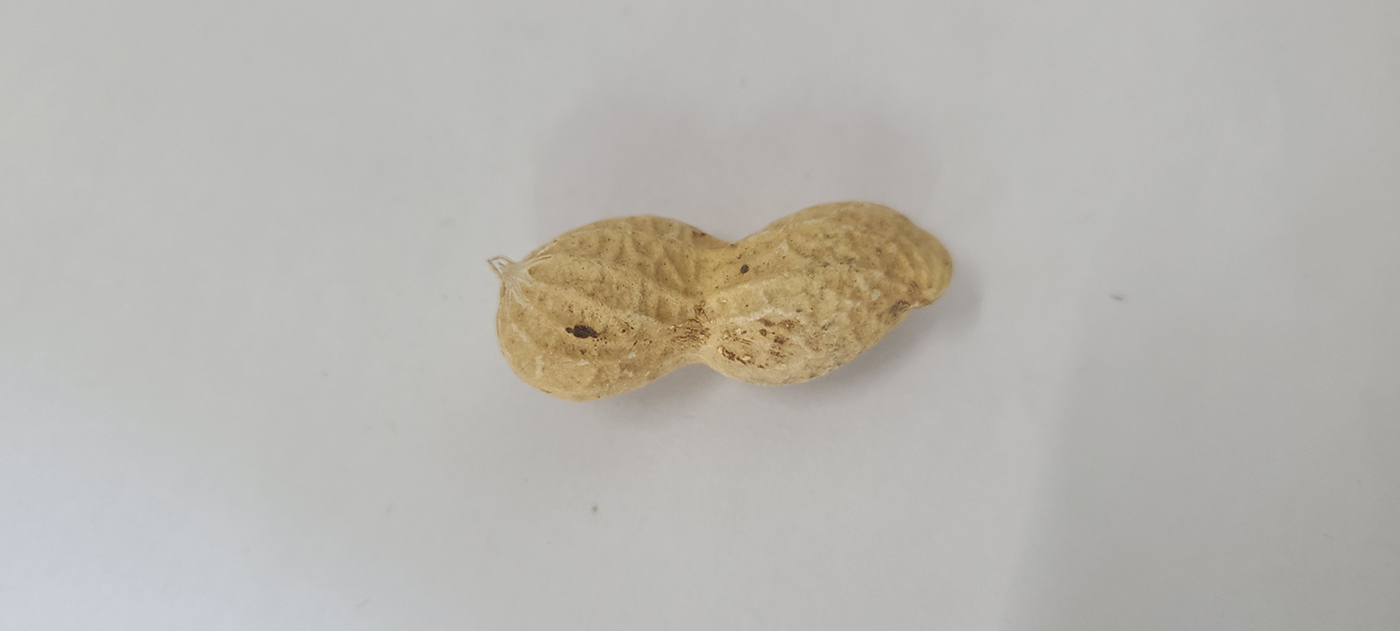h: (493, 200, 957, 402)
